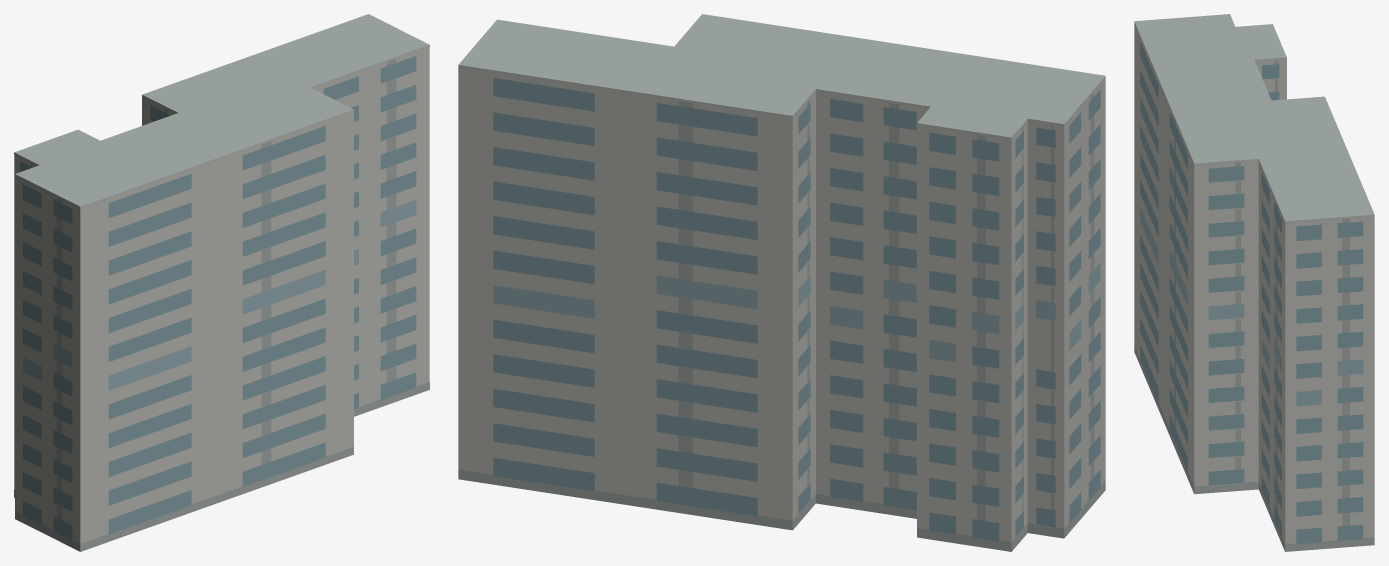
Rendered from residential-f9306a77-4fe0-4cd3-96ab-d2a171ca053d.glb.
The picture shows the model from 3 angles, left to right: view 1: azimuth 30°, elevation 25°; view 2: azimuth 150°, elevation 25°; view 3: azimuth 270°, elevation 25°; orthographic projection. The views are drawn at different scales.
Parts seen in each view (by area): view 1: residential-f9306a77-4fe0-4cd3-96ab-d2a171ca053d.tmp; view 2: residential-f9306a77-4fe0-4cd3-96ab-d2a171ca053d.tmp; view 3: residential-f9306a77-4fe0-4cd3-96ab-d2a171ca053d.tmp.
Boxes of the visible parts, left/top/right/bottom form: residential-f9306a77-4fe0-4cd3-96ab-d2a171ca053d.tmp: left=14, top=14, right=429, bottom=551; residential-f9306a77-4fe0-4cd3-96ab-d2a171ca053d.tmp: left=458, top=14, right=1105, bottom=551; residential-f9306a77-4fe0-4cd3-96ab-d2a171ca053d.tmp: left=1134, top=14, right=1374, bottom=551.
Bounding box in the file's own units: 49.23 × 36.6 × 24.13.
